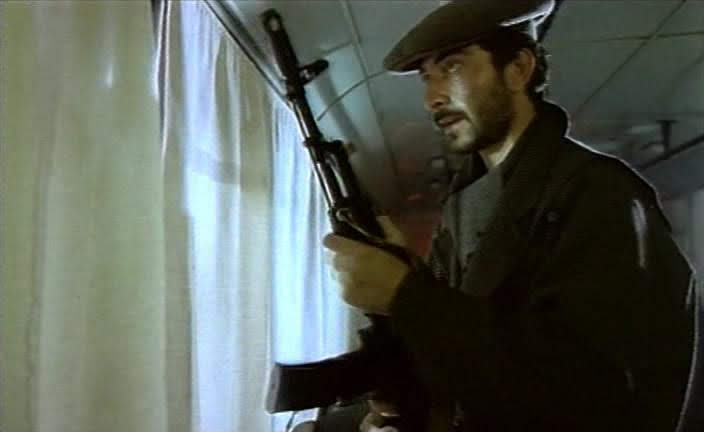gun: (238, 4, 408, 411)
